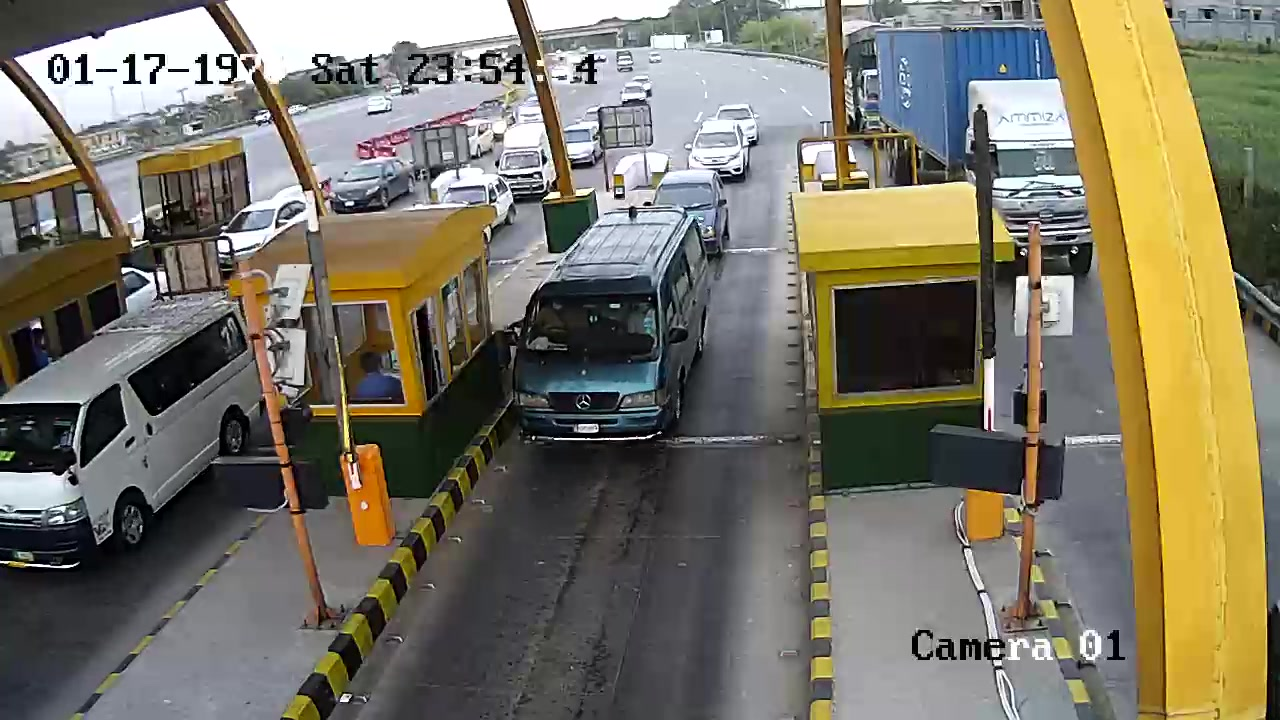F2: (516, 208, 718, 464)
